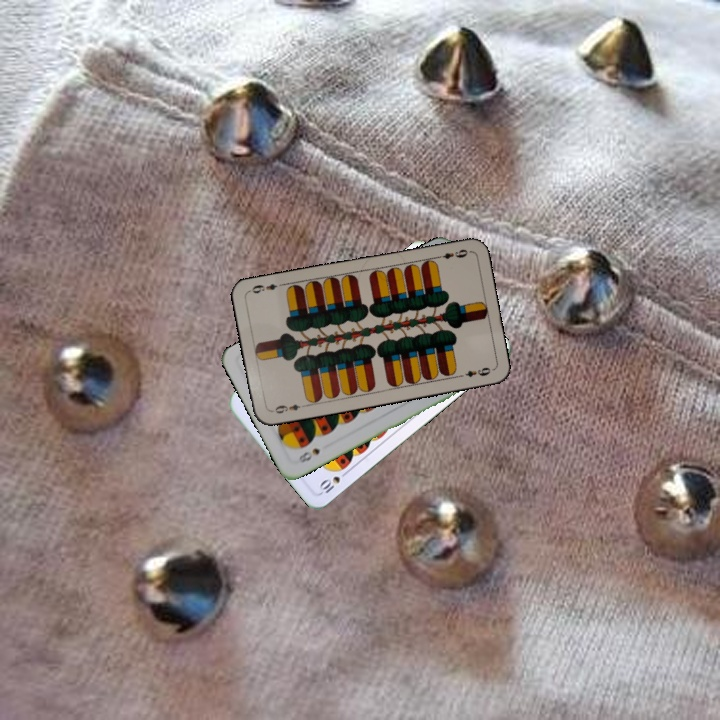E9: (431, 245, 470, 261), (268, 400, 303, 416)
S10: (315, 467, 351, 496)
S8: (295, 444, 322, 465)
